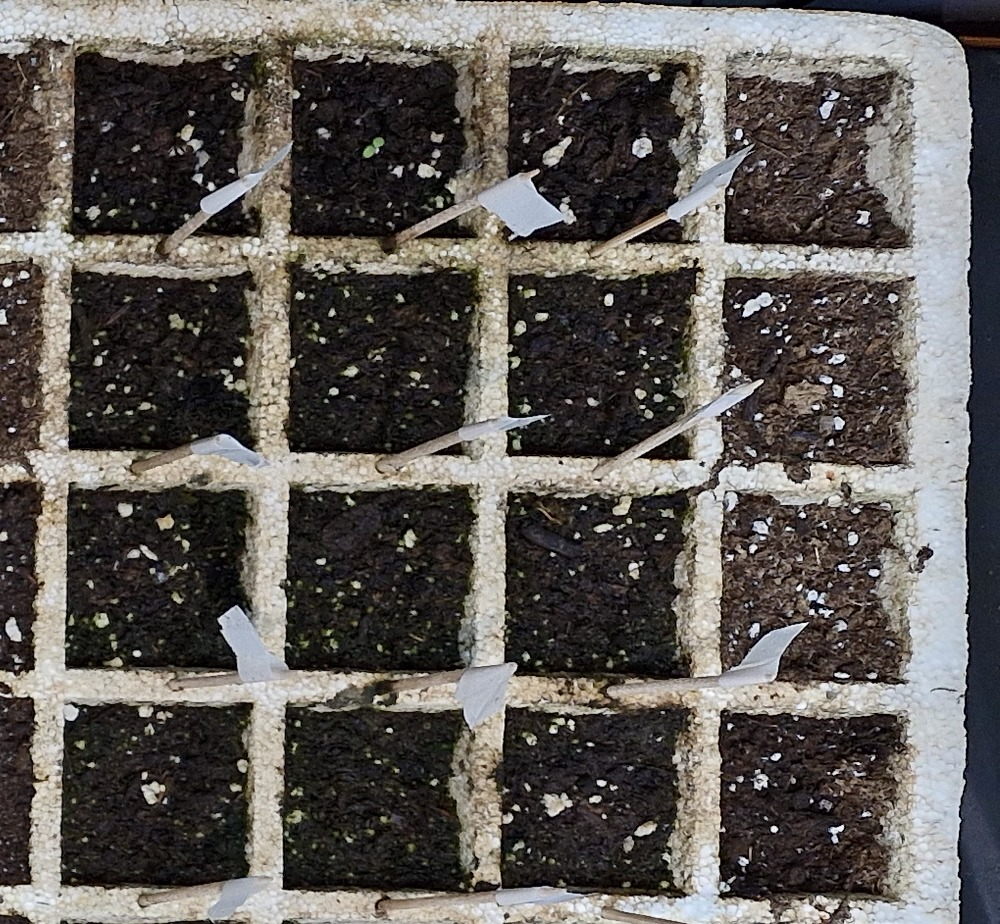Folha: (363, 145, 376, 158), (373, 138, 384, 147)
Germinacao: (362, 137, 385, 159)
